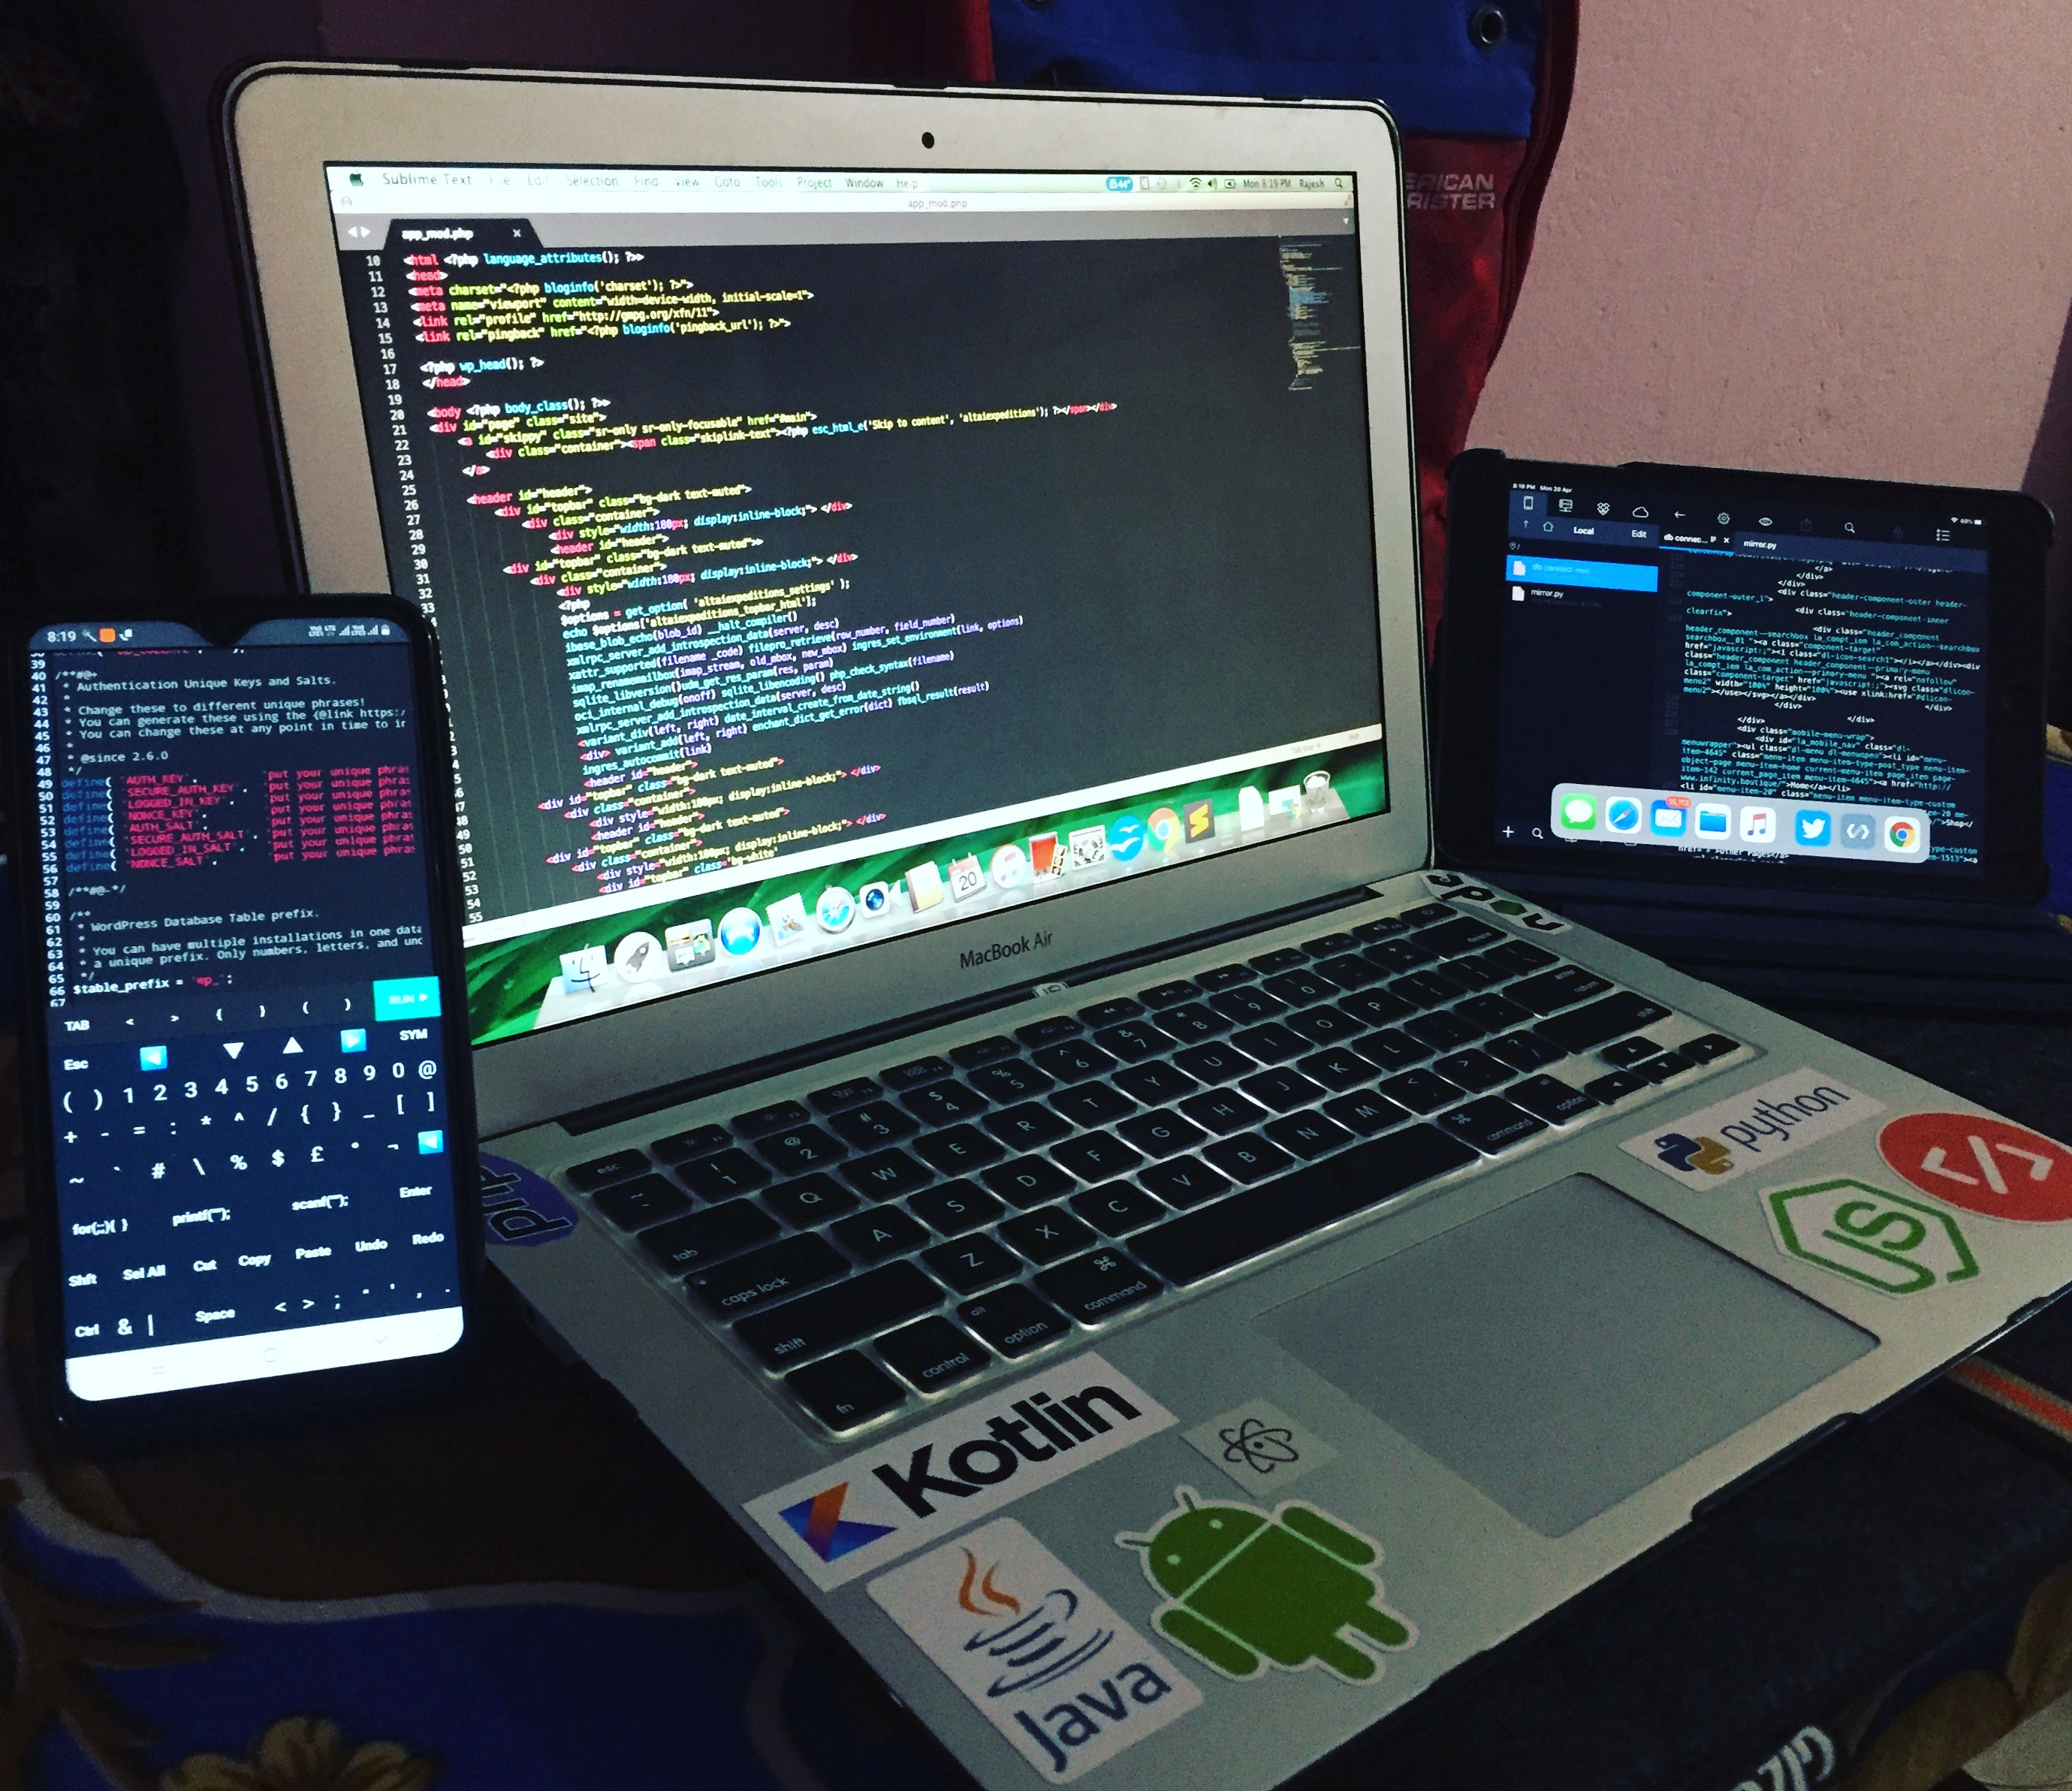Cellphone: (0, 597, 500, 1453)
Laptop (OSX): (224, 18, 2047, 1791)
Monitor (Laptop): (210, 44, 1452, 1078)
Tablet (iPad): (1424, 442, 2072, 942)
